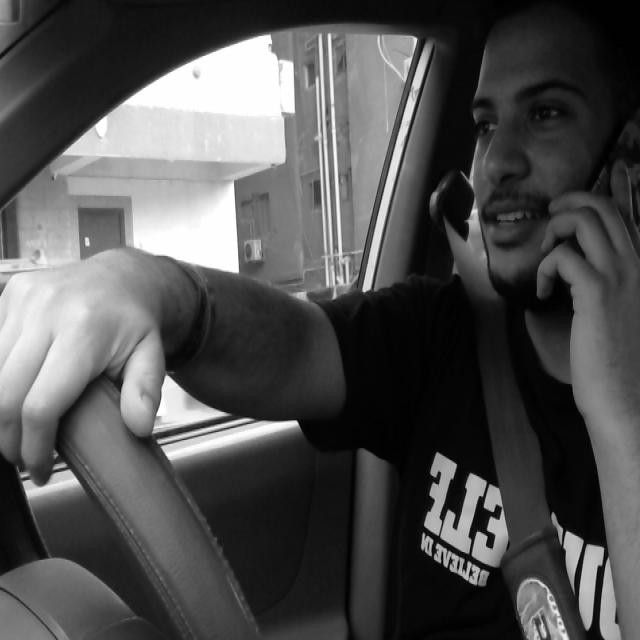mobile use: (532, 103, 640, 353)
